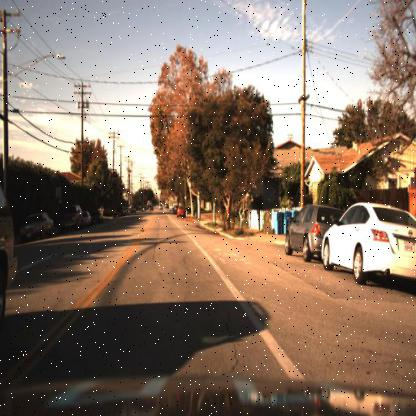car: (320, 201, 416, 289), (283, 202, 347, 264), (278, 189, 322, 268), (18, 210, 54, 238), (58, 201, 84, 235), (57, 204, 83, 236), (92, 204, 106, 227), (82, 204, 92, 230), (176, 204, 188, 219), (116, 204, 126, 219), (147, 201, 157, 216), (156, 200, 166, 212), (171, 203, 179, 215)
